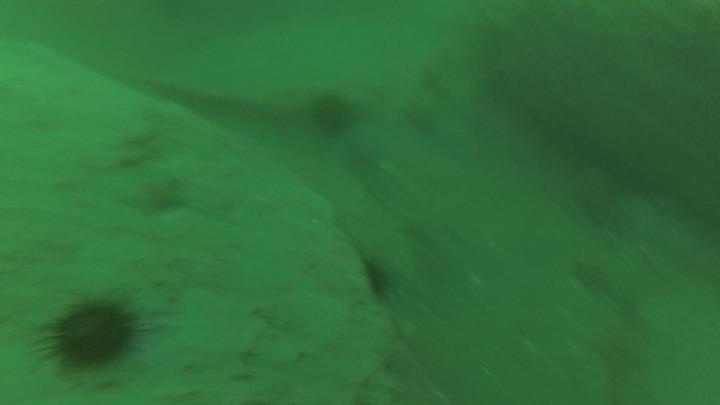echinus: (42, 296, 141, 374), (308, 91, 357, 140)
starfish: (115, 169, 190, 221), (557, 254, 615, 297)
